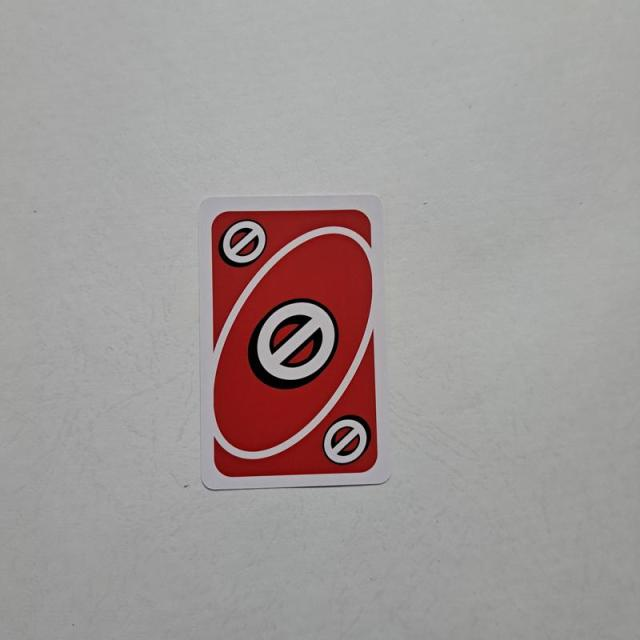Red_Card: (204, 205, 386, 482)
Skip: (219, 218, 269, 266)
